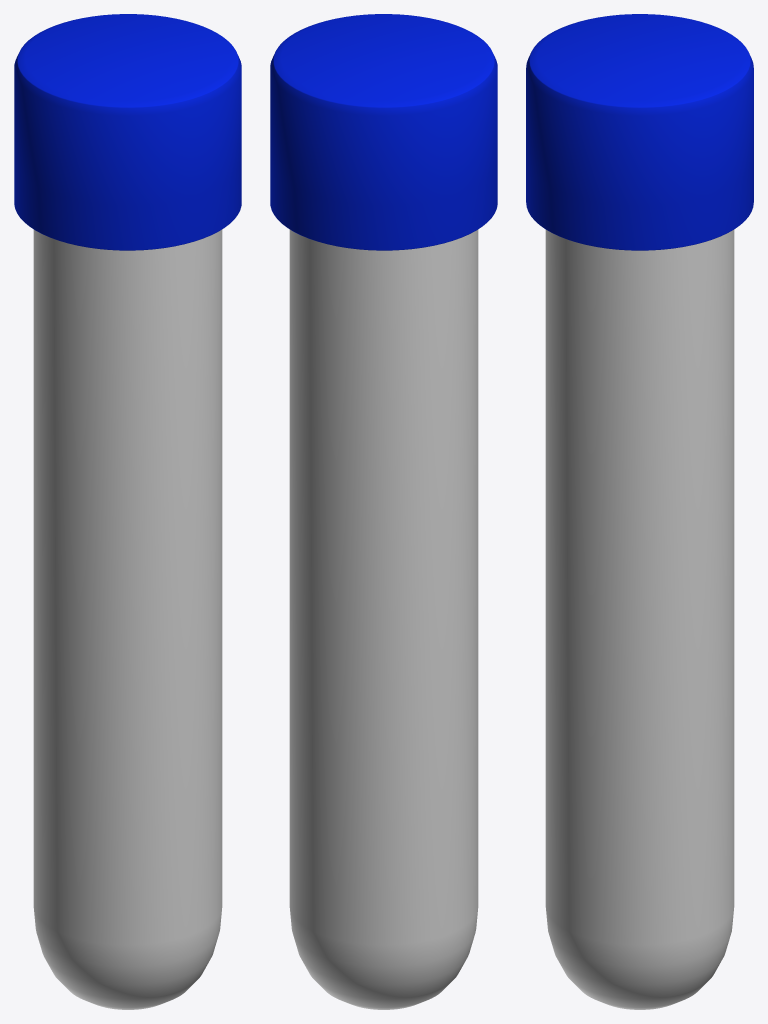
The model's file is BloodTrail_Sample.fbx.
The picture shows the model from 3 angles, left to right: view 1: azimuth 30°, elevation 25°; view 2: azimuth 150°, elevation 25°; view 3: azimuth 270°, elevation 25°; orthographic projection.
Parts seen in each view (by area): view 1: Cylinder; view 2: Cylinder; view 3: Cylinder.
Part boxes in pixels (x1=…): Cylinder: x1=14, y1=14, x2=241, y2=1009; Cylinder: x1=270, y1=14, x2=497, y2=1009; Cylinder: x1=526, y1=14, x2=753, y2=1009.
Size of the model in its own units: 73.66 by 334 by 73.66.
